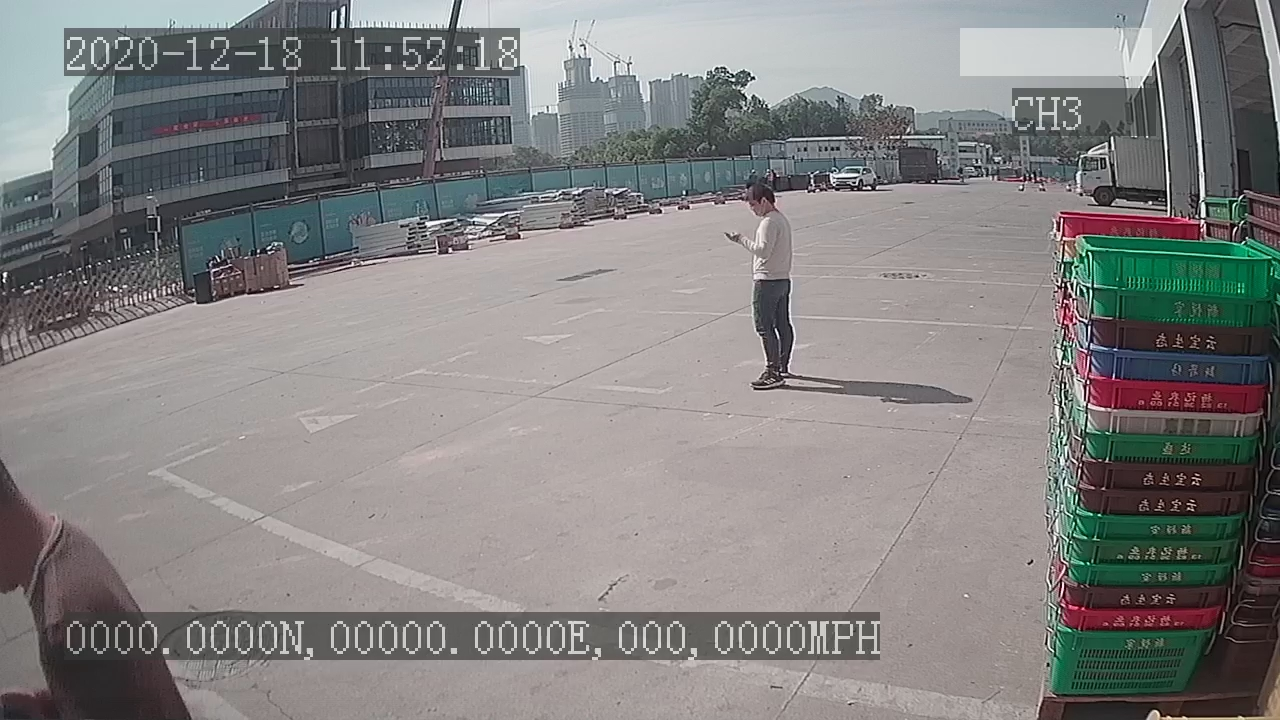person: (717, 185, 799, 401)
